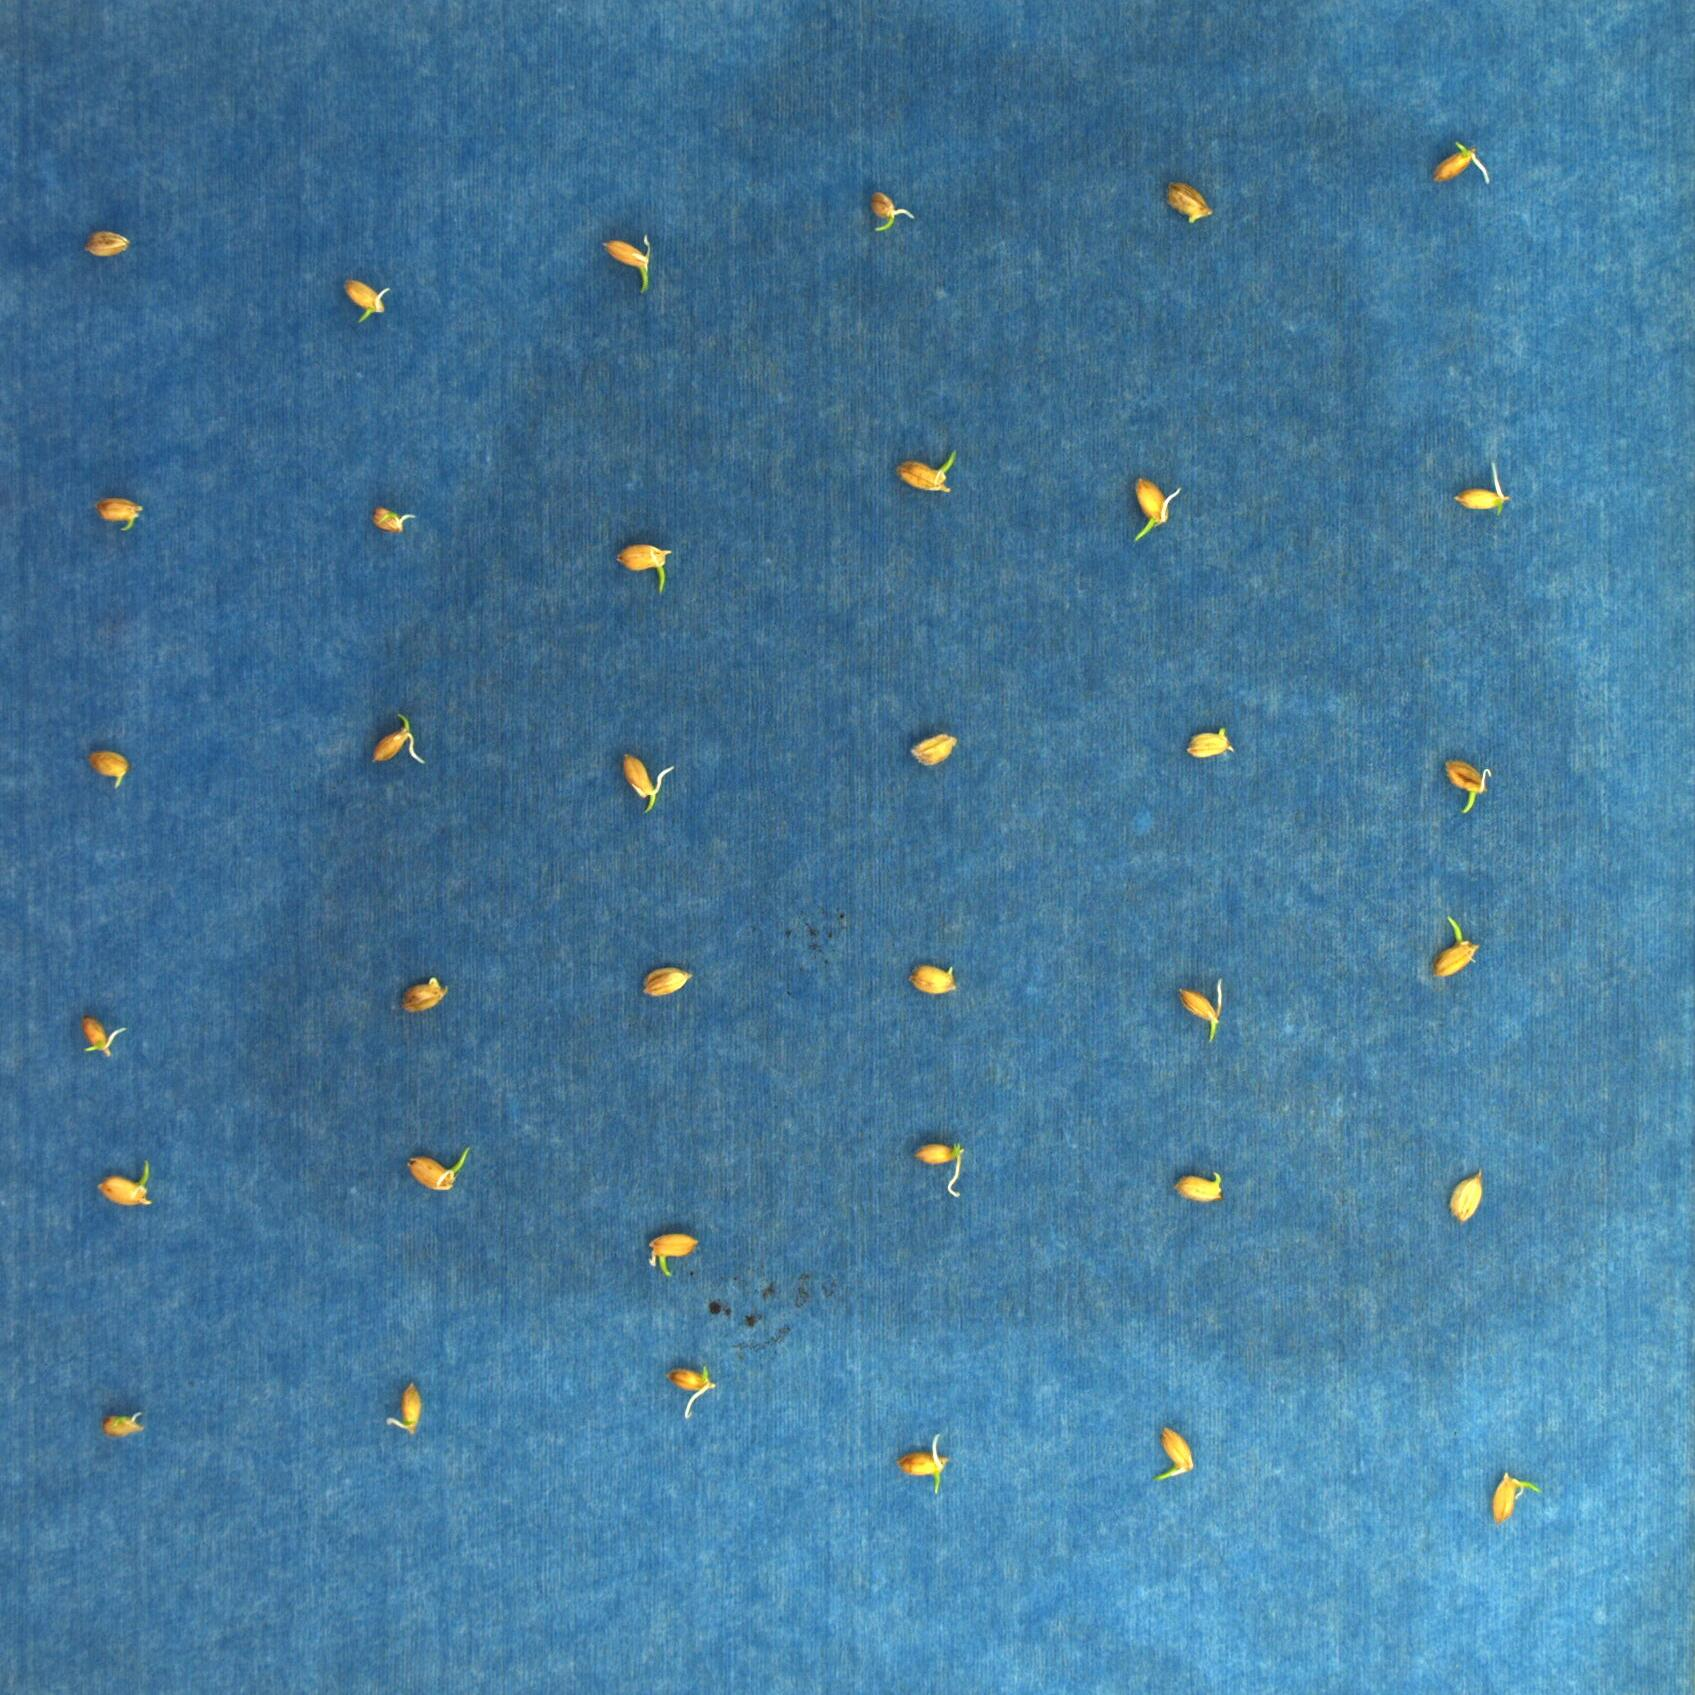not sprout: (897, 1431, 950, 1499), (1454, 456, 1509, 518), (914, 1139, 965, 1198), (671, 1366, 712, 1420), (341, 278, 388, 326), (81, 1015, 127, 1059), (399, 976, 447, 1018), (1450, 1167, 1484, 1225), (388, 1378, 421, 1437), (87, 748, 130, 792), (1173, 1170, 1226, 1206), (93, 497, 144, 532), (910, 962, 962, 995), (644, 965, 692, 1001), (910, 736, 959, 770), (1186, 728, 1237, 761), (84, 230, 132, 258), (374, 508, 418, 532), (101, 1412, 143, 1437)
sprout: (1132, 472, 1183, 543), (619, 753, 674, 813), (1433, 913, 1479, 979), (1178, 979, 1226, 1043), (615, 543, 674, 594), (369, 712, 421, 771), (407, 1146, 470, 1192), (894, 452, 958, 497), (98, 1156, 154, 1208), (1447, 757, 1495, 813), (604, 239, 653, 292), (1492, 1471, 1541, 1524), (1153, 1426, 1195, 1489), (646, 1232, 698, 1279), (1433, 141, 1490, 182), (1166, 179, 1212, 219), (869, 191, 914, 231)
